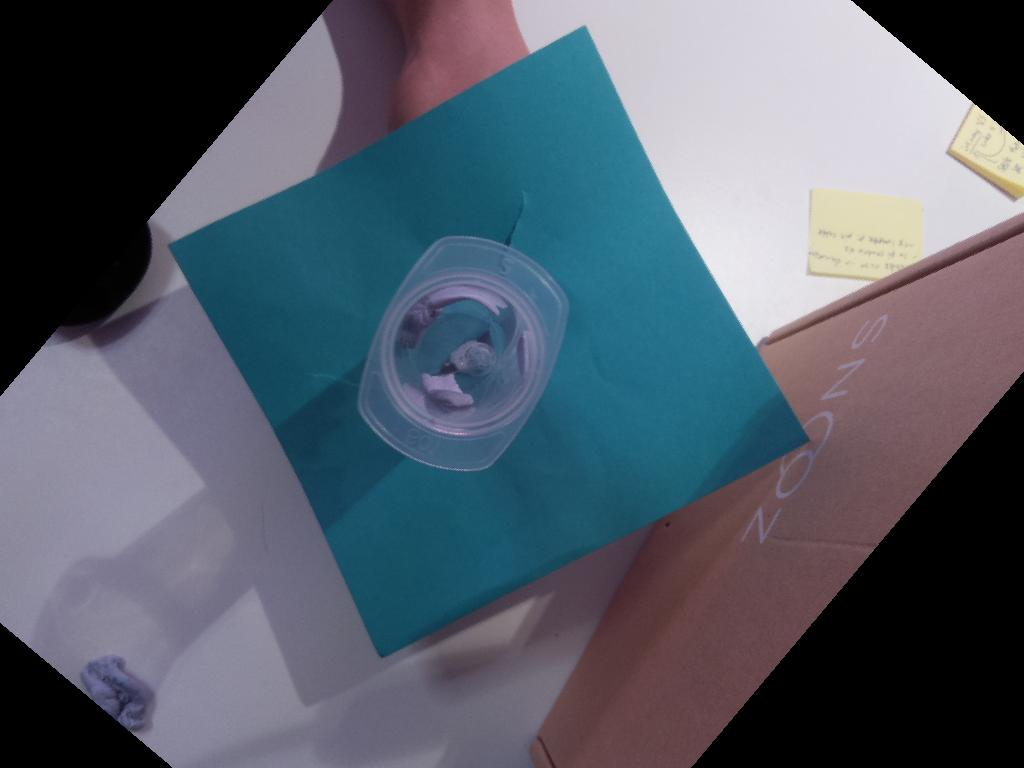dirty: (356, 234, 569, 473)
